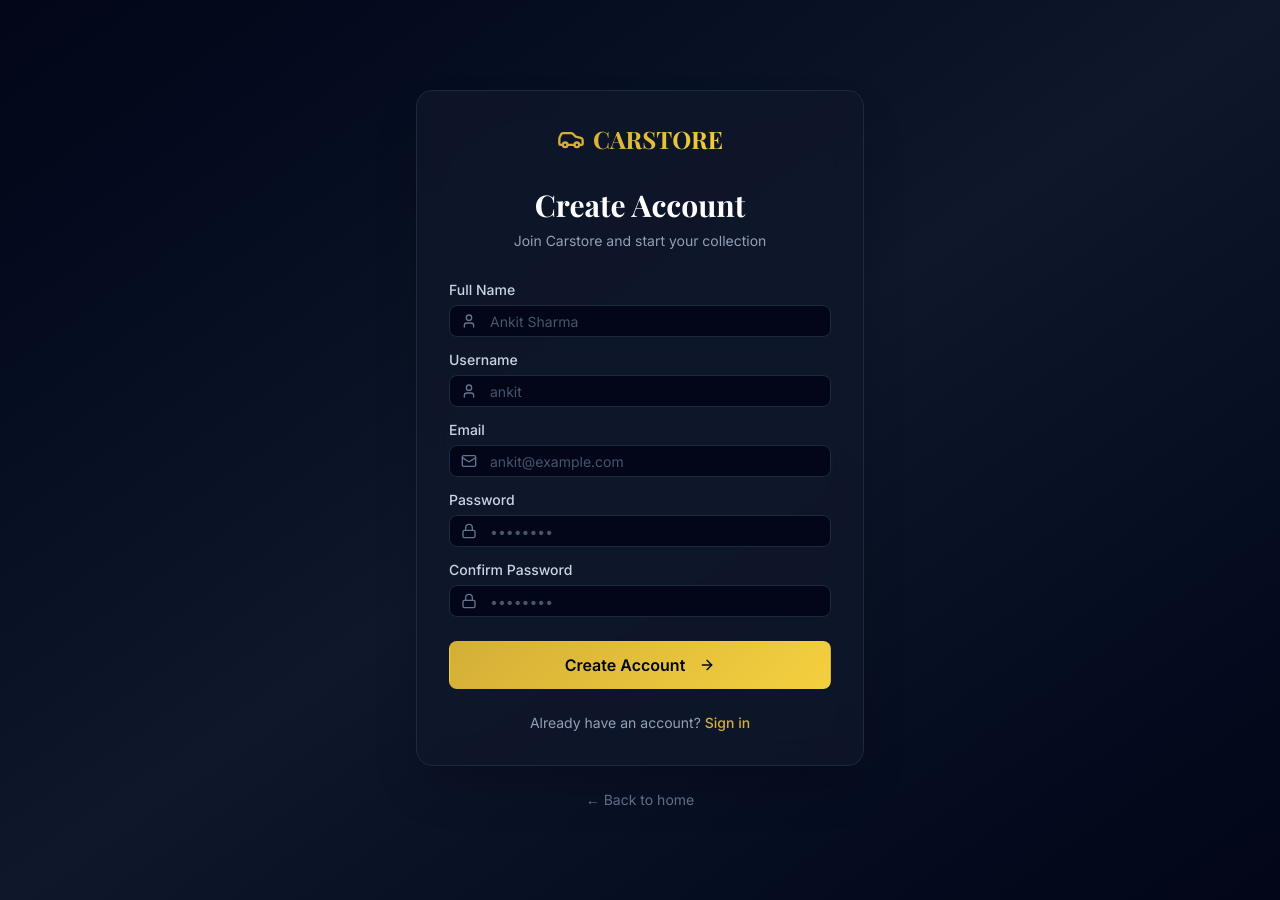
Test case: RegisterPage Component › shows validation error when passwords do not match
In the field labelled "Full Name": coordinates (640, 321) [449,305,831,337], type "Lord Sterling"
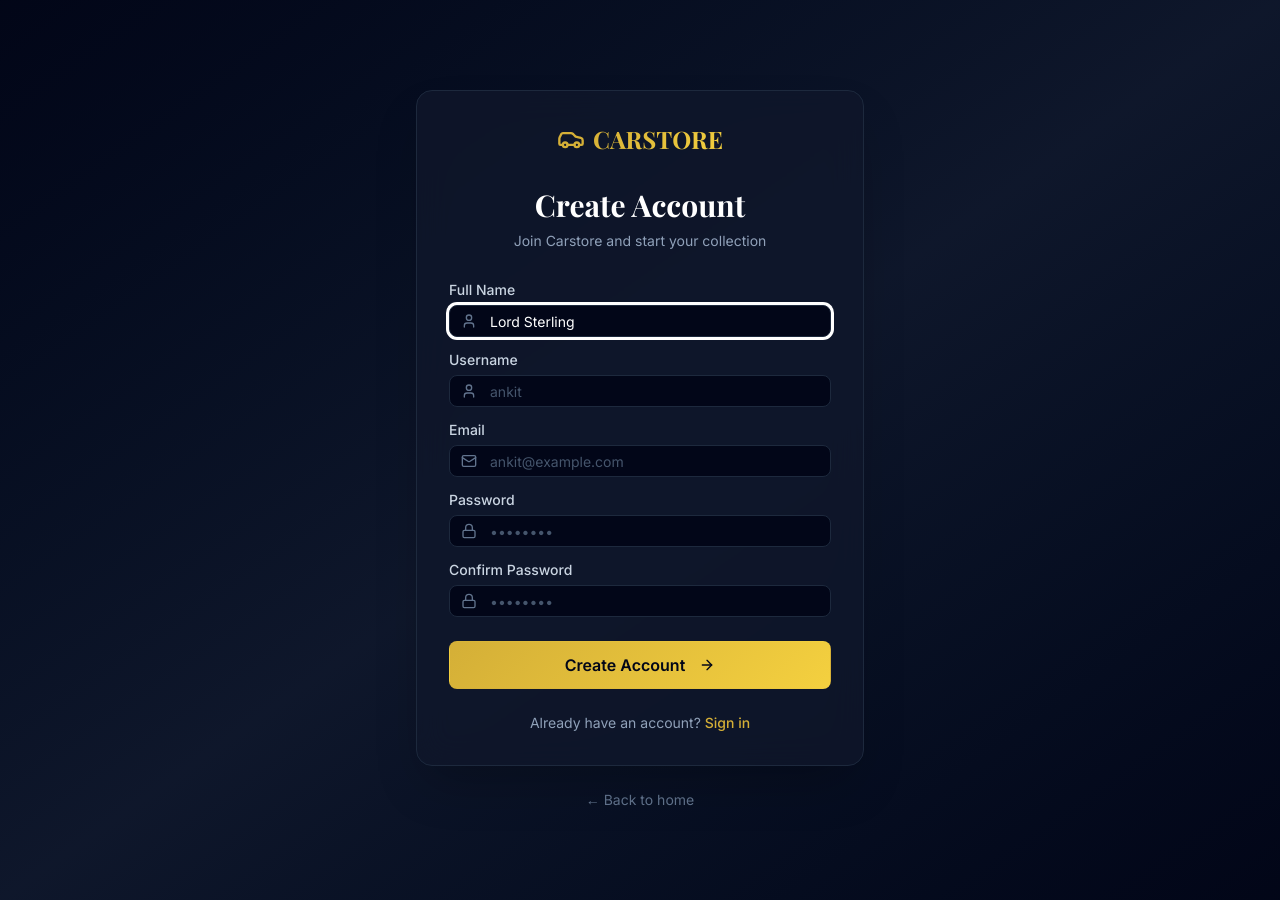
In the field labelled "Username": coordinates (640, 391) [449,375,831,407], type "sterling"
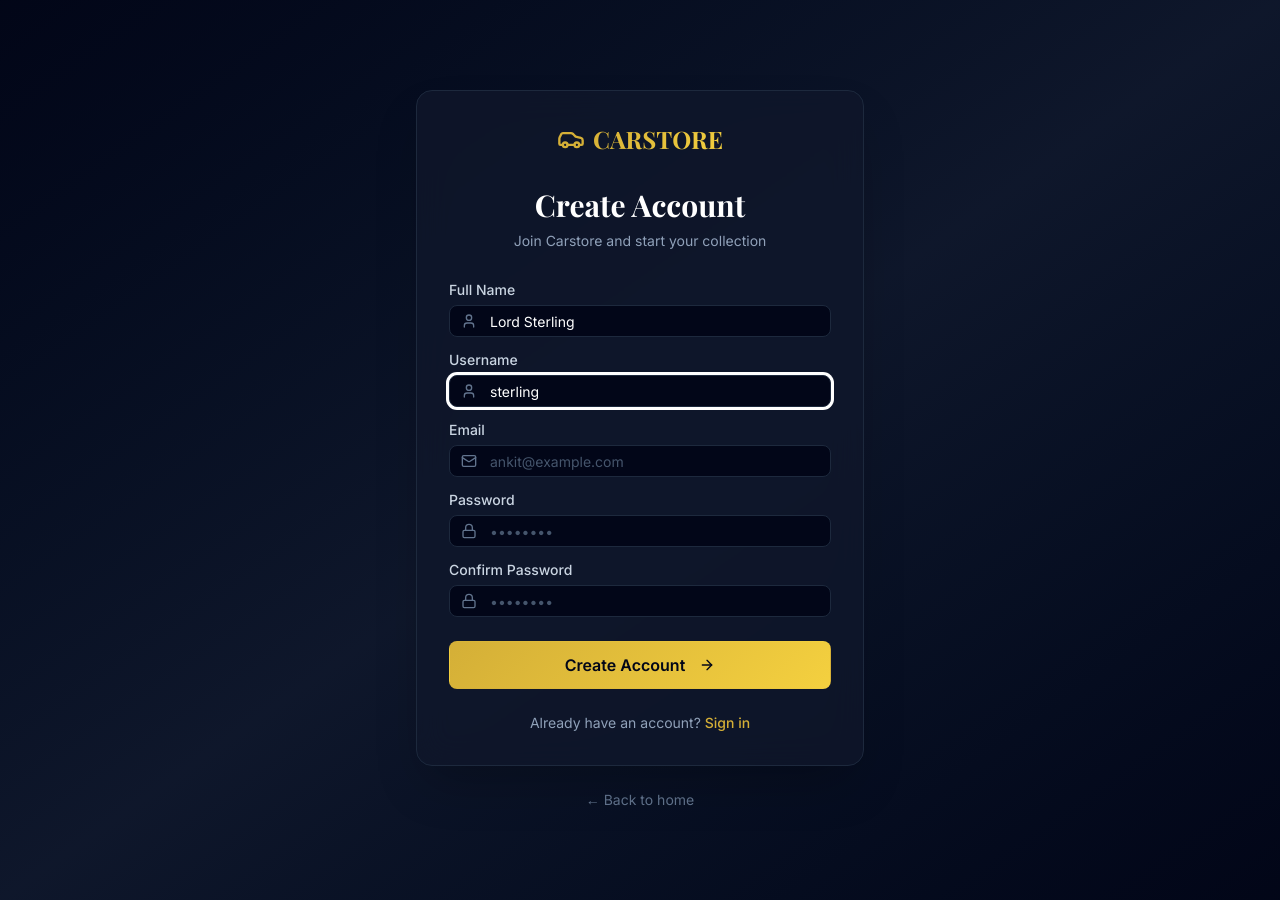
In the field labelled "Email": coordinates (640, 461) [449,445,831,477], type "sterling@luxury.com"
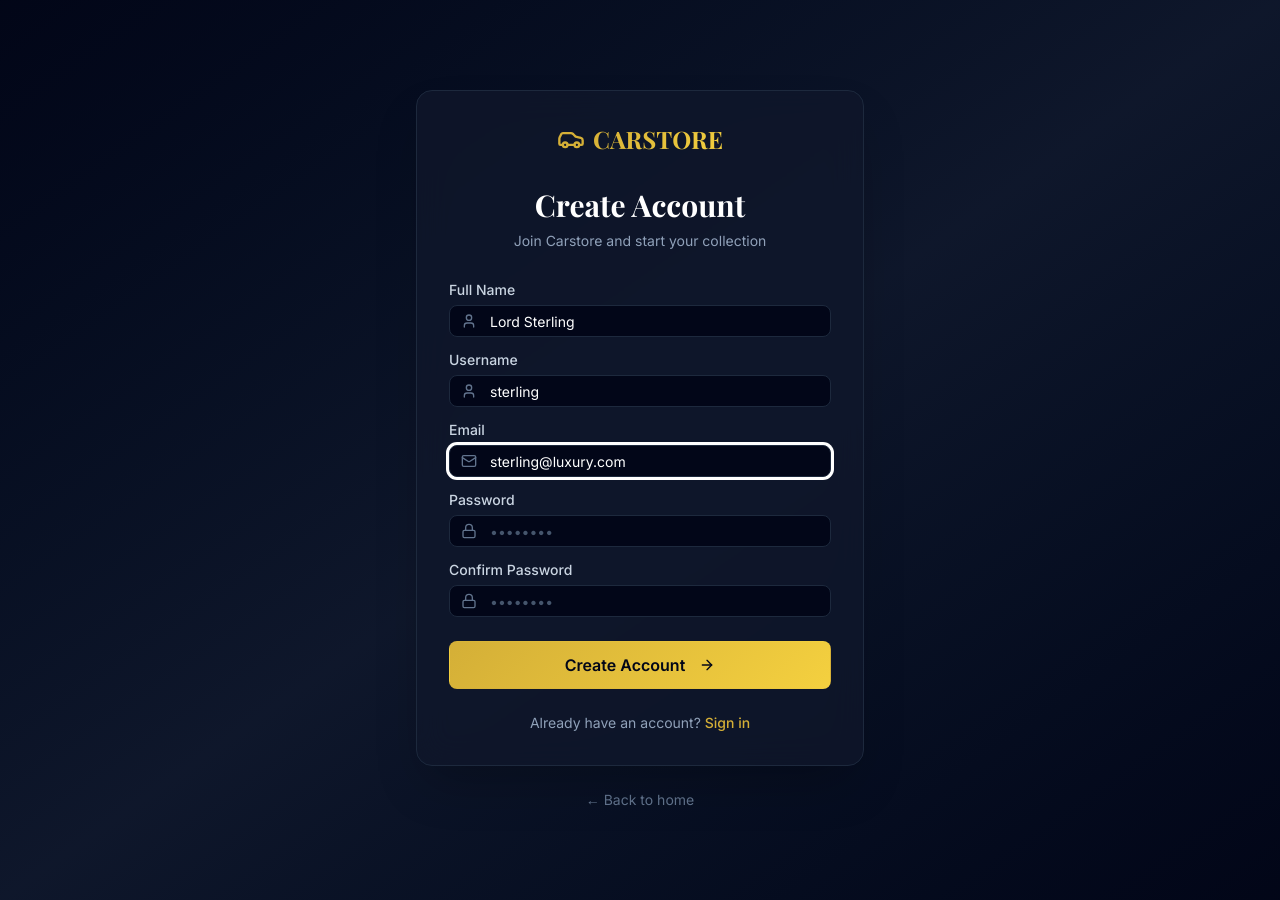
In the password field labelled "Password": coordinates (640, 531) [449,515,831,547], type "secret123"
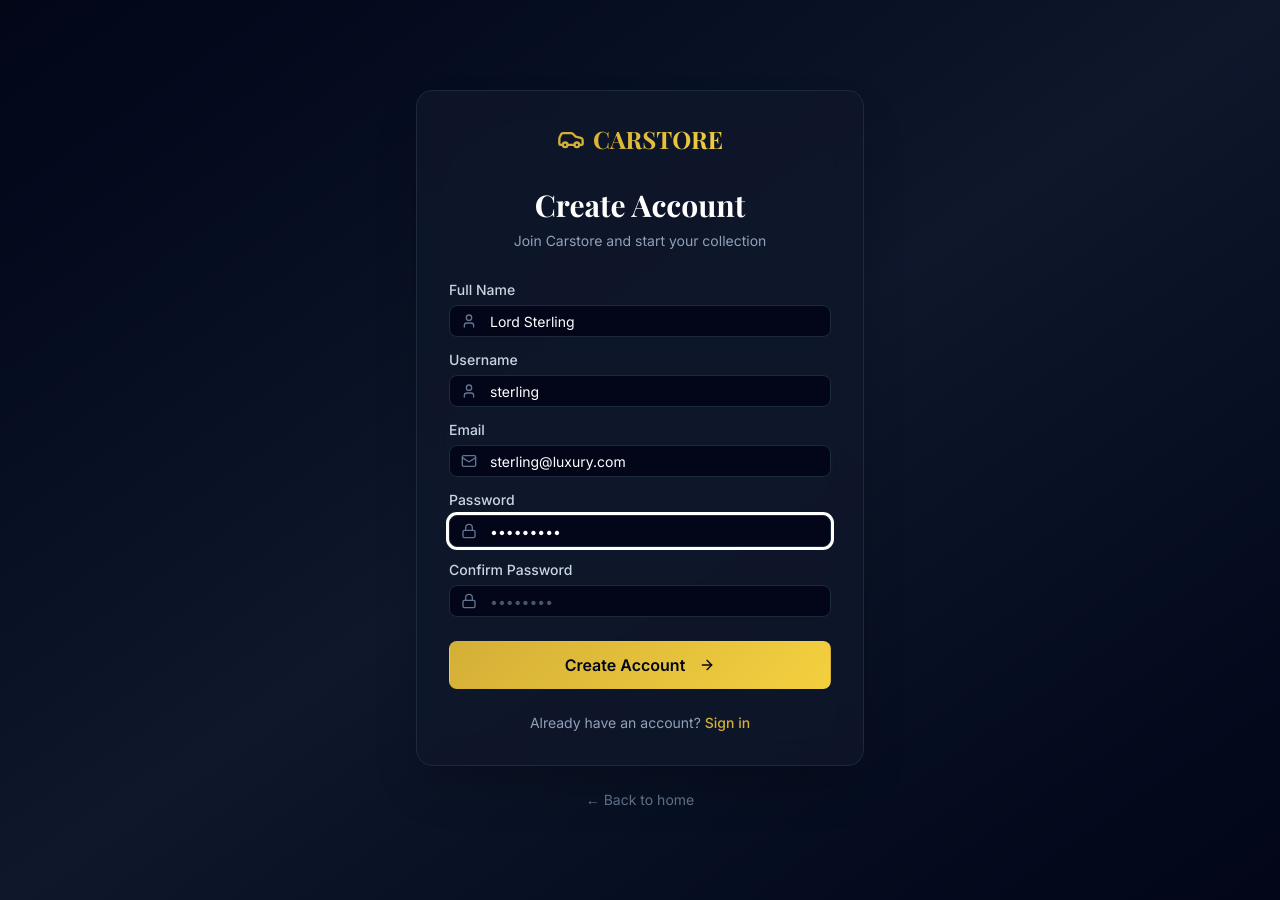
In the password field labelled "Confirm Password": coordinates (640, 601) [449,585,831,617], type "differentpass"
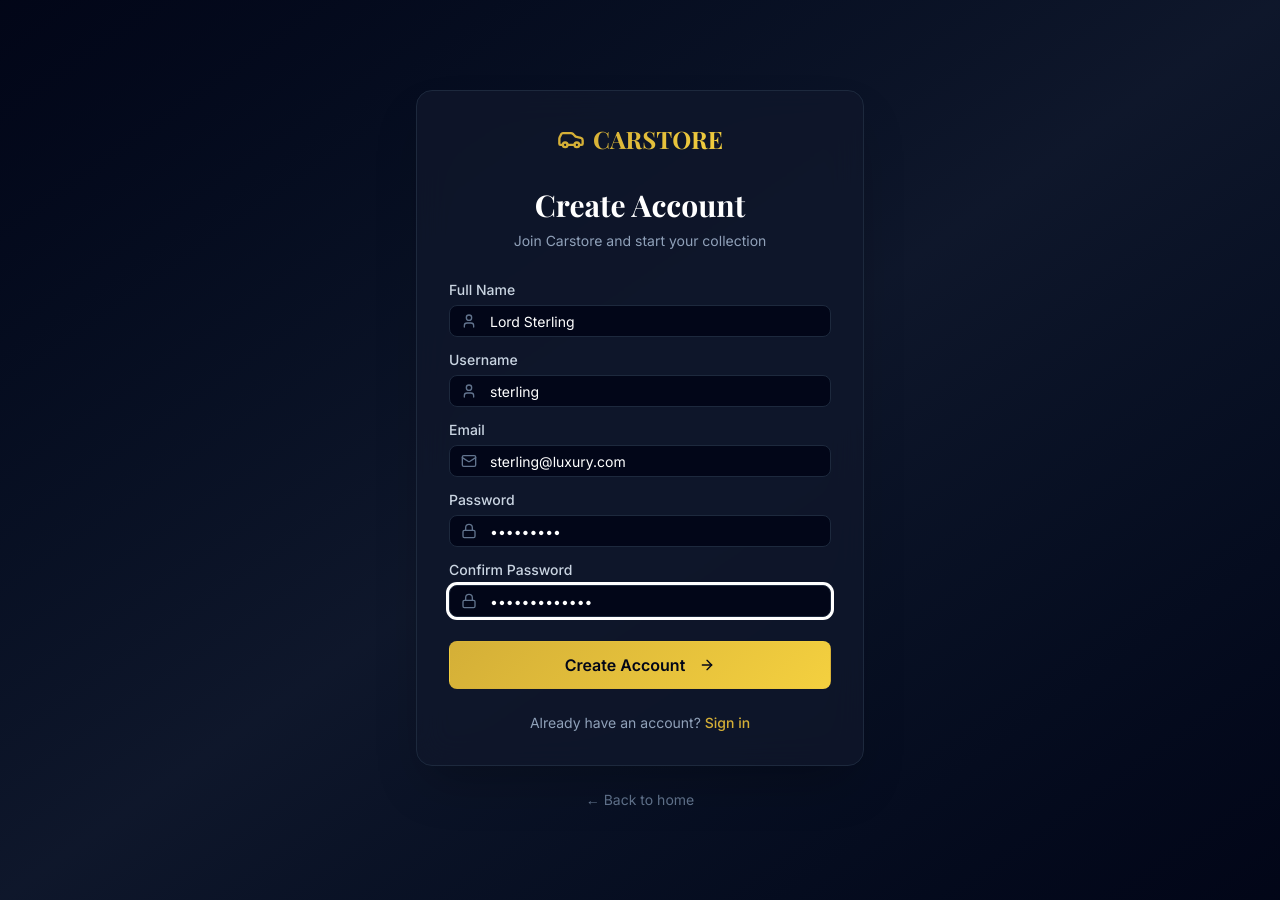
Click the button "Create Account": coordinates (640, 665) [449,641,831,689]
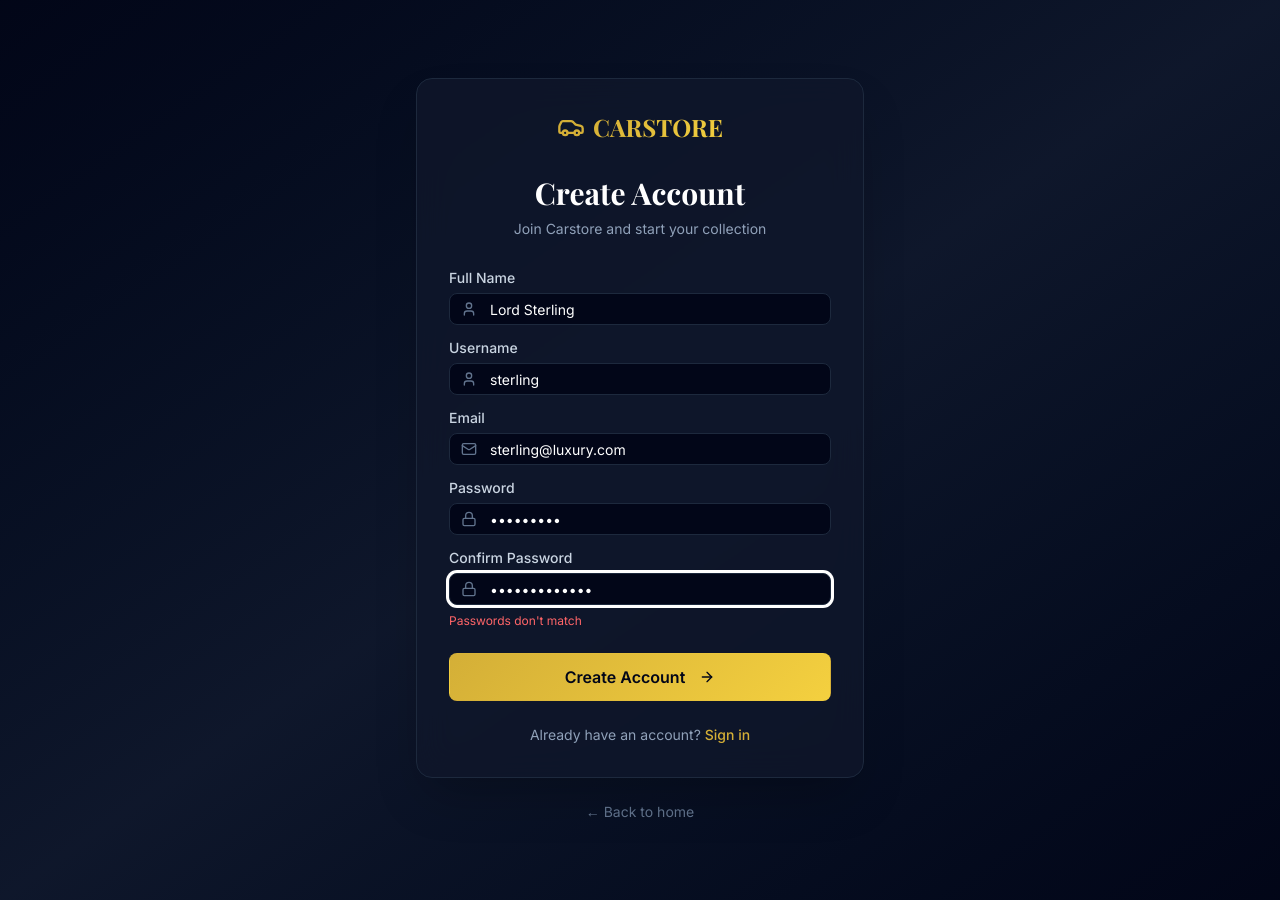
Check: the text "Passwords don't match" is shown, box [449,613,582,628]
